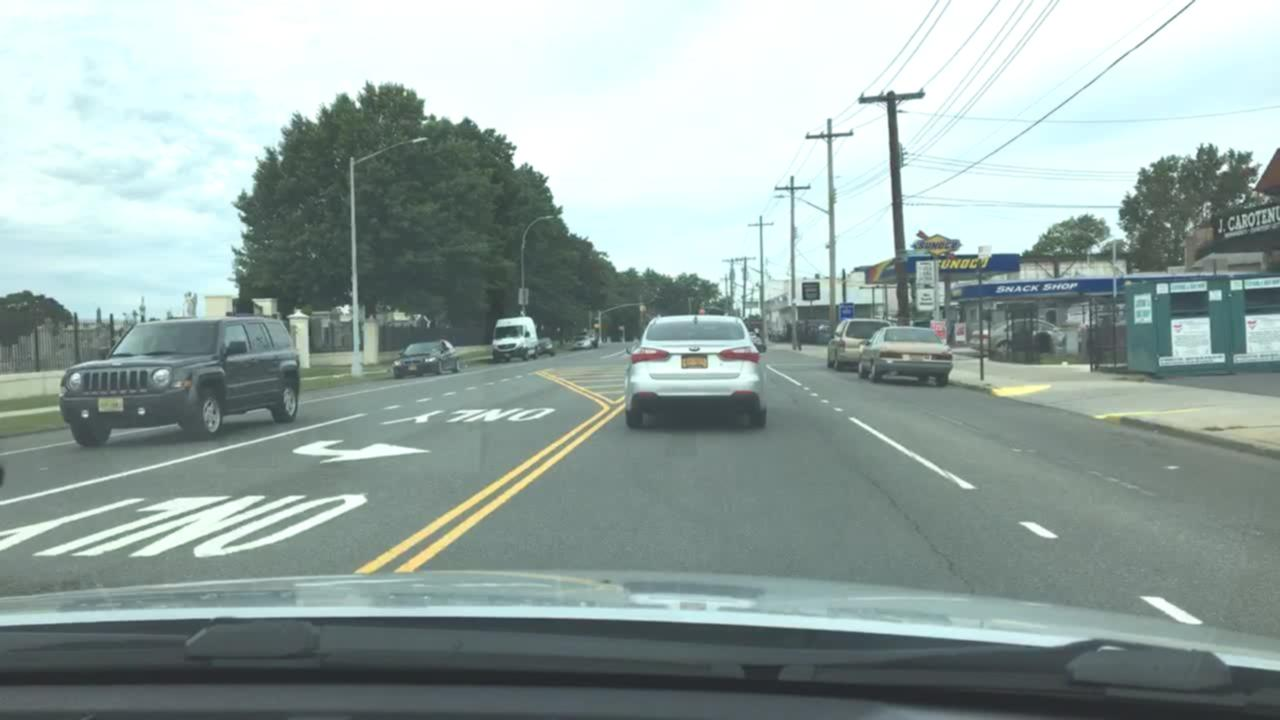jeep: (109, 360, 125, 368)
kia: (688, 344, 701, 354)
